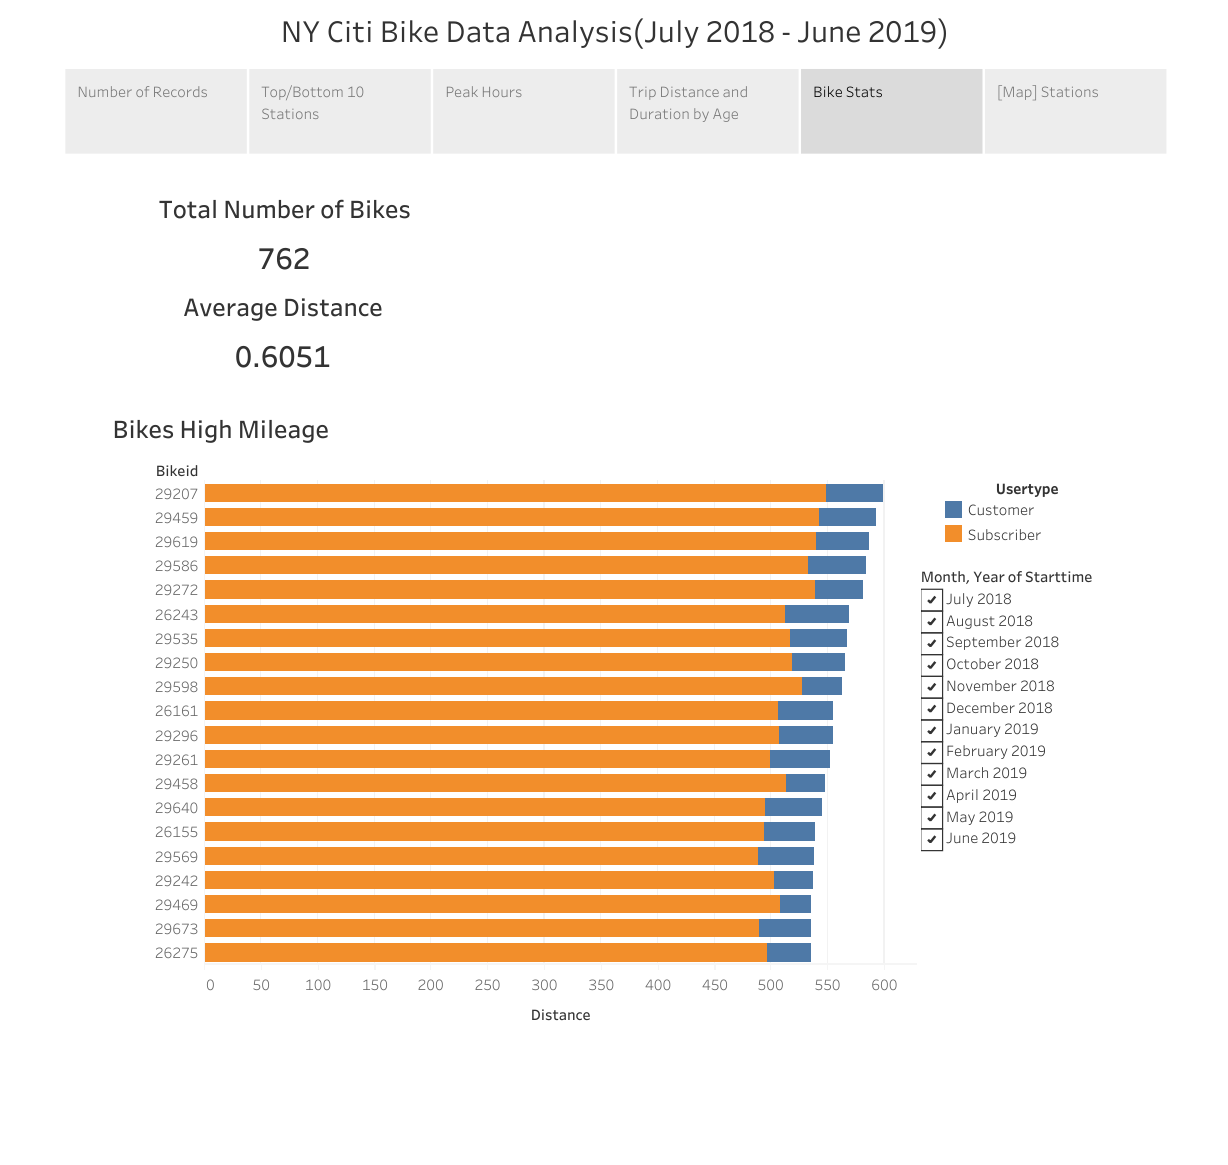

The dashboard page shown, as its layout file describes it:
{"tool":"tableau","page":{"name":"Bikes","canvas":[1000,1000],"units":"permille","ordinal":0},"visuals":[{"type":"worksheet","title":"Total Number of Bikes","mark":"Automatic","box":[12.9,11.7,332.9,100.4]},{"type":"worksheet","title":"Average Distance","mark":"Automatic","box":[14.1,110.9,327.1,107.4]},{"type":"worksheet","title":"Bikes High Mileage","mark":"Automatic","rows":["bikeid"],"cols":["Calculation_2171298008310095884"],"box":[7.1,234.5,787.1,724.6]},{"type":"legend","title":"Bikes High Mileage","param":"[federated.06t6mmk1ta8xqx1g6an2d0cdsx3z].[none:usertype:nk]","box":[817.6,306.9,164.7,67.7]},{"type":"filter","title":"Bikes High Mileage","param":"[federated.06t6mmk1ta8xqx1g6an2d0cdsx3z].[my:starttime:ok]","box":[797.6,397.9,197.7,346.6]}]}

Visuals, with their boxes on the dashboard's canvas, which has no fixed pixel size, in thousandths of its width and height (x1, y1, x2, y2). These are canvas units, not pixel positions in the 1228x1165 screenshot, which may show the page scaled, cropped or inside an application window:
"Total Number of Bikes" worksheet: (x1=13, y1=12, x2=346, y2=112)
"Average Distance" worksheet: (x1=14, y1=111, x2=341, y2=218)
"Bikes High Mileage" worksheet: (x1=7, y1=234, x2=794, y2=959)
"Bikes High Mileage" legend: (x1=818, y1=307, x2=982, y2=375)
"Bikes High Mileage" filter: (x1=798, y1=398, x2=995, y2=744)
